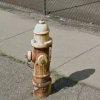Hydrant: (21, 8, 60, 100)
